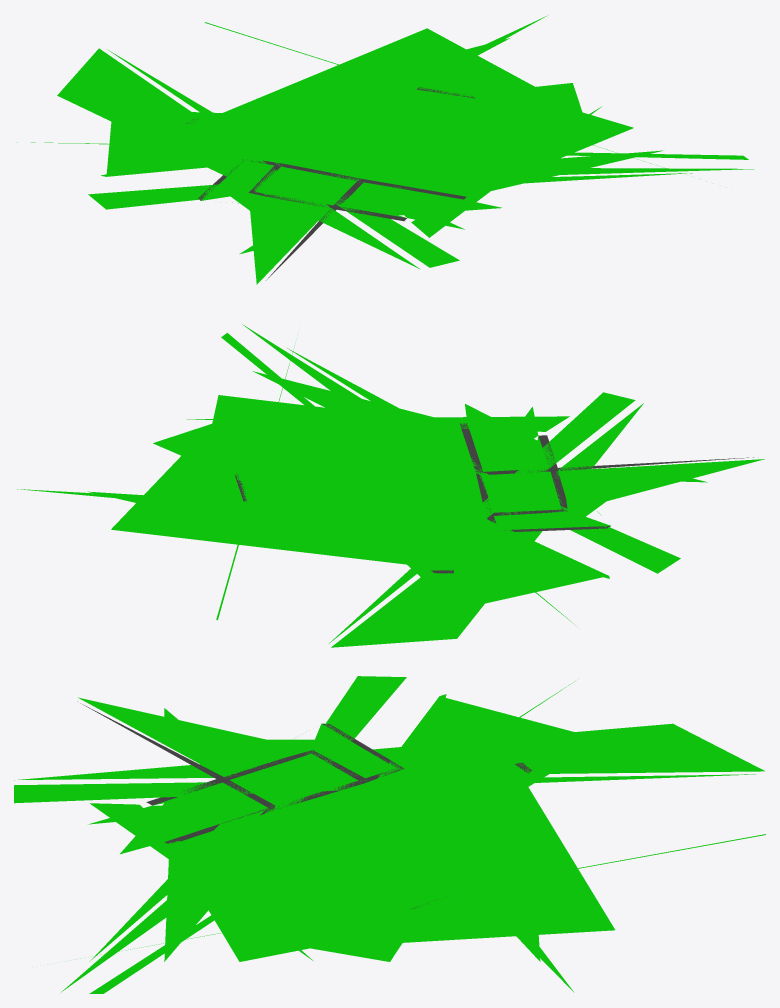
3 renders of one model, top to bottom at view 1: azimuth 30°, elevation 25°; view 2: azimuth 150°, elevation 25°; view 3: azimuth 270°, elevation 25°, orthographic. The views are drawn at different scales.
Bounding box in the file's own units: 300 × 0 × 300.
